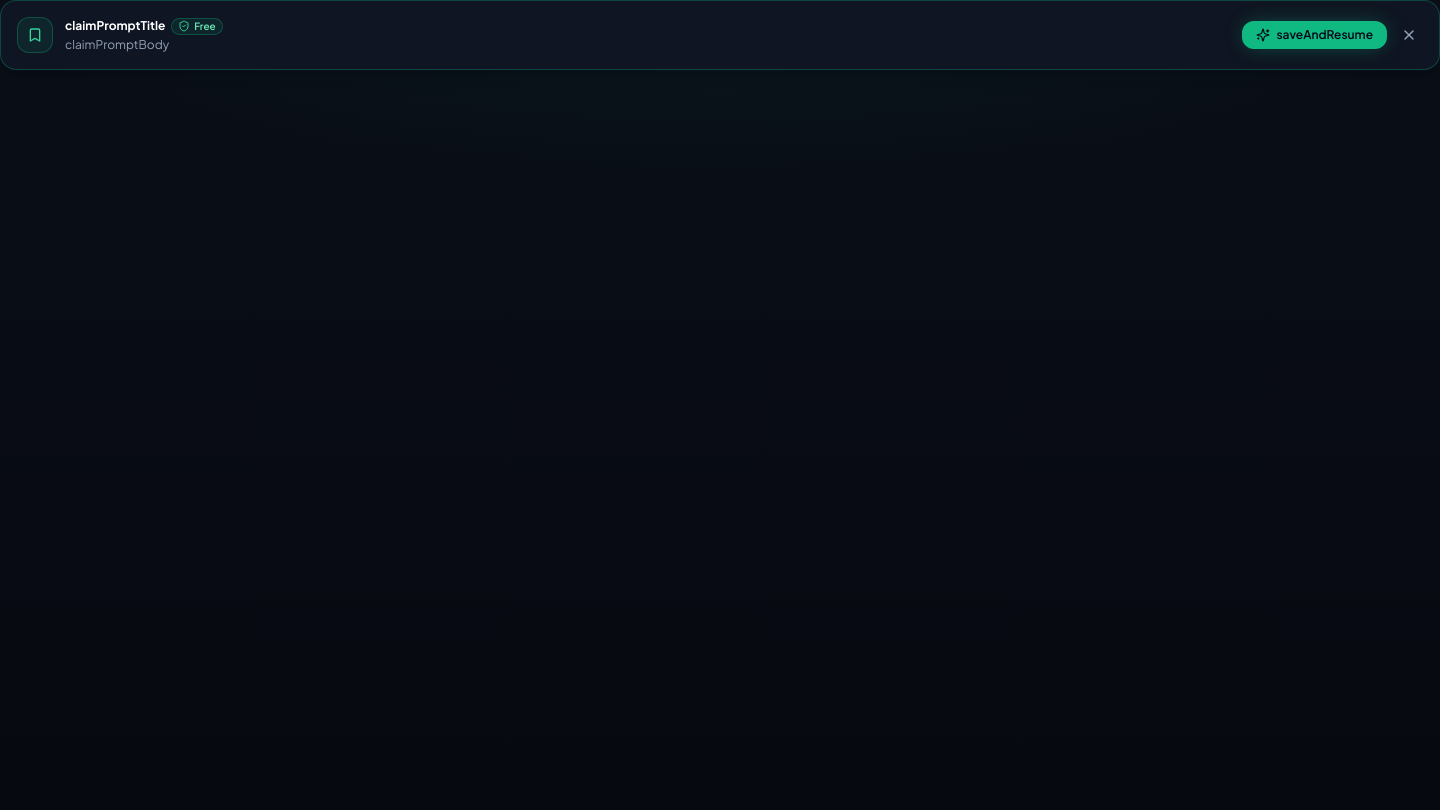
Test case: Save & Resume Later — Progressive Onboarding › ClaimBanner with Save & Resume Integration › renders Save & Resume button for anonymous users and opens modal
Expected: the text "claimPromptTitle" is shown, [65, 18, 165, 34]
# Click to open modal
Click the button "saveAndResume": (1315, 35) [1242, 21, 1387, 49]
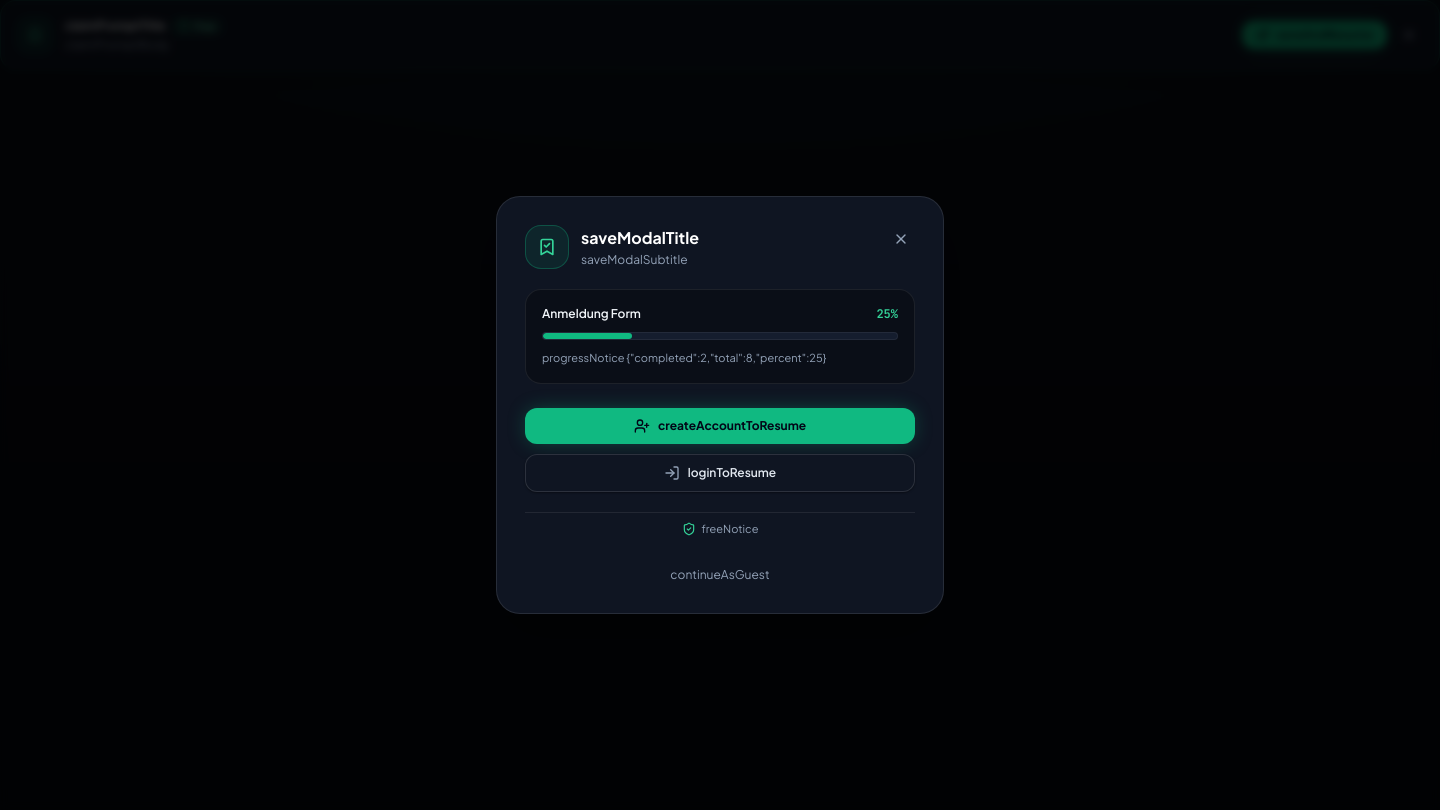
Expected: the dialog is shown
